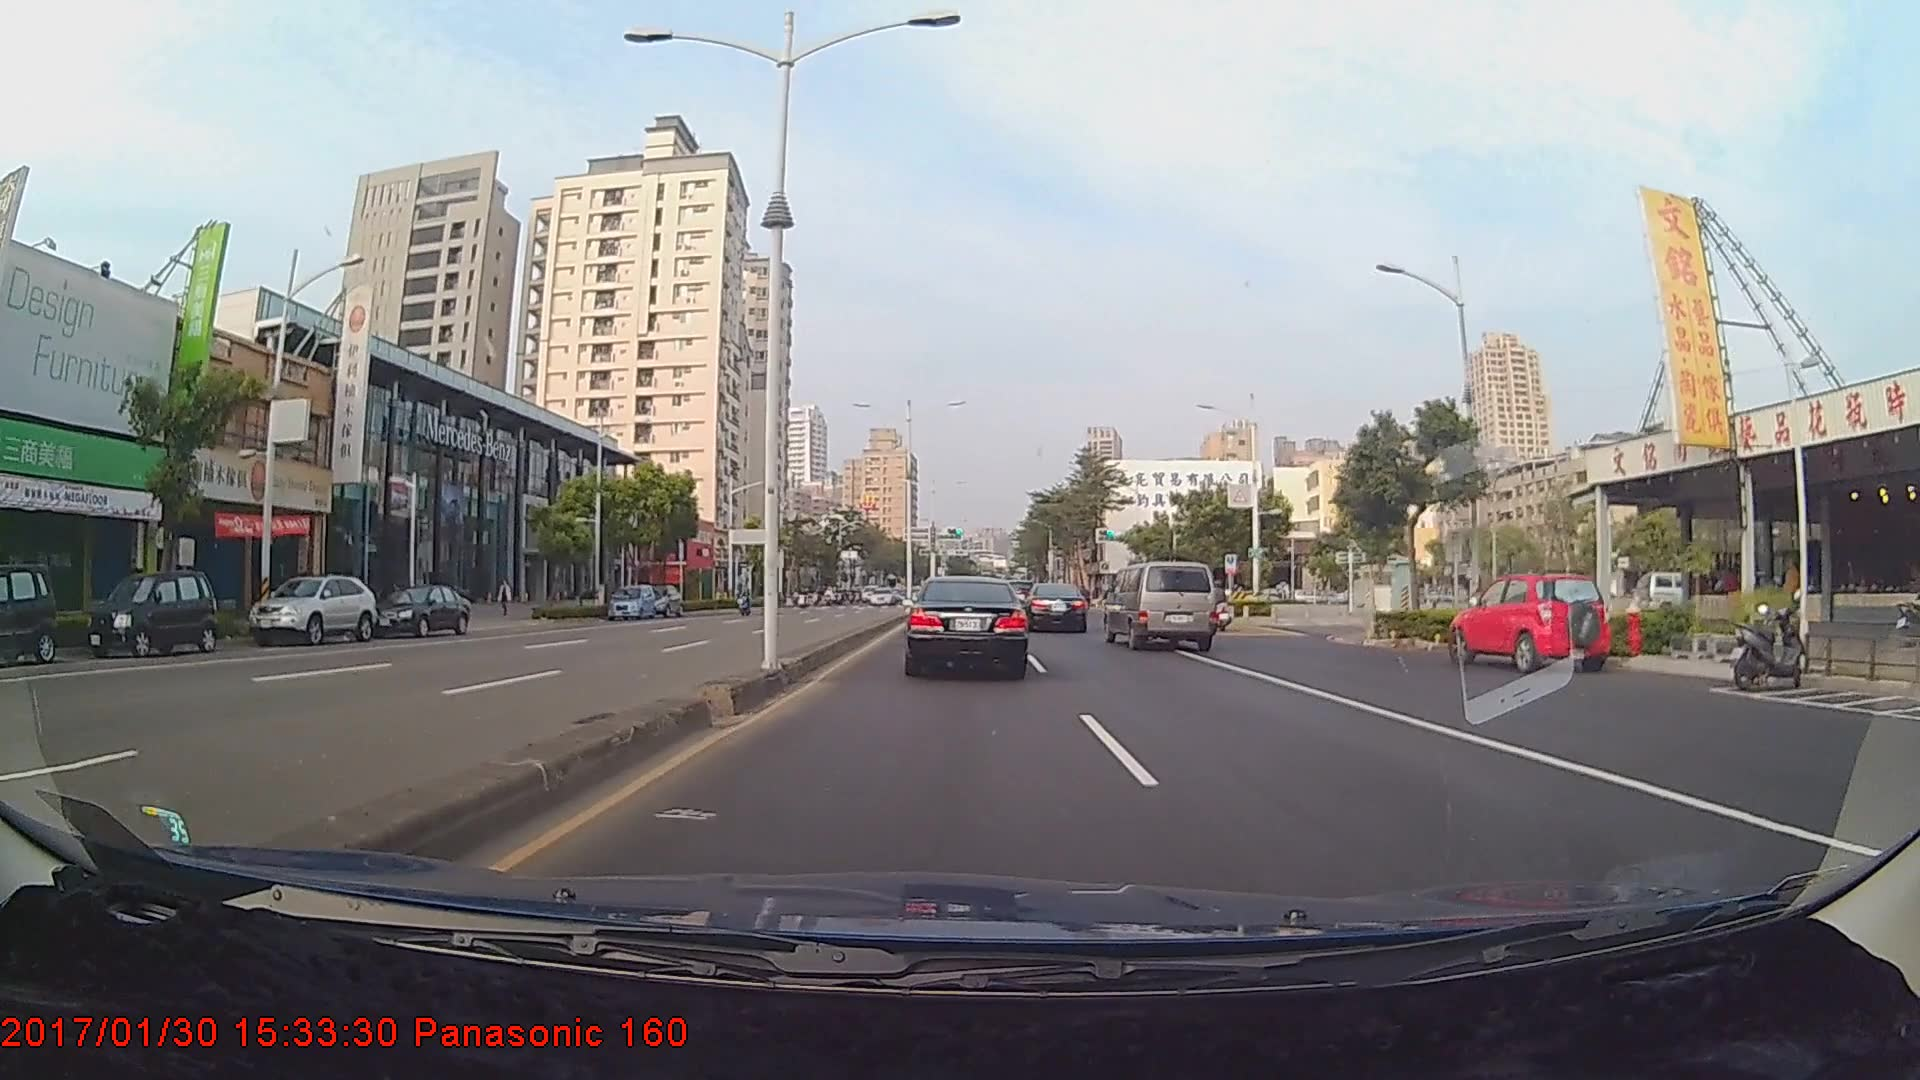pedestrian: (1782, 558, 1807, 634), (495, 579, 515, 619)
vehicle: (1457, 570, 1604, 673), (906, 575, 1028, 676), (1102, 560, 1218, 650), (246, 572, 375, 644), (133, 572, 218, 656), (0, 563, 56, 673), (373, 583, 469, 639), (1023, 582, 1090, 633), (607, 583, 656, 622), (642, 585, 682, 619)
